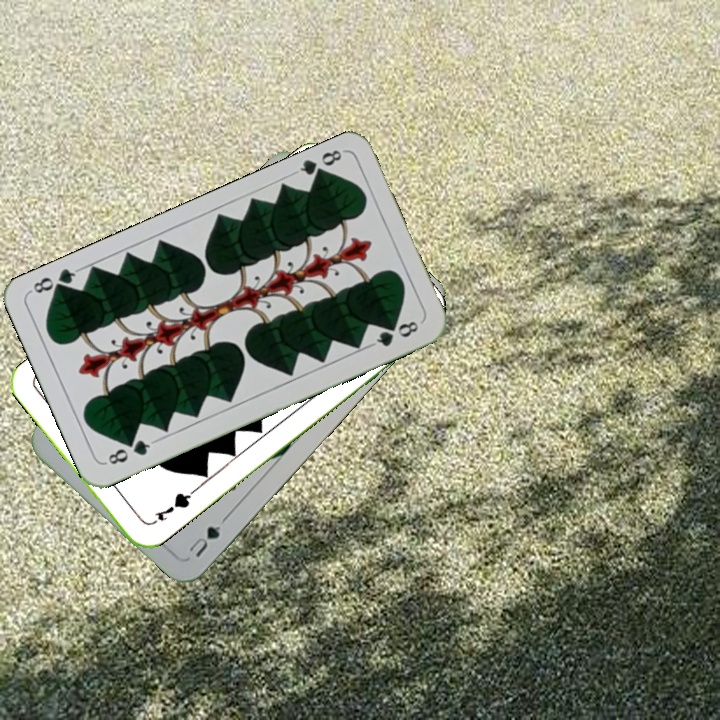G7: (145, 487, 196, 528)
G8: (290, 145, 346, 183), (101, 436, 157, 468)
GU: (184, 521, 224, 560)
